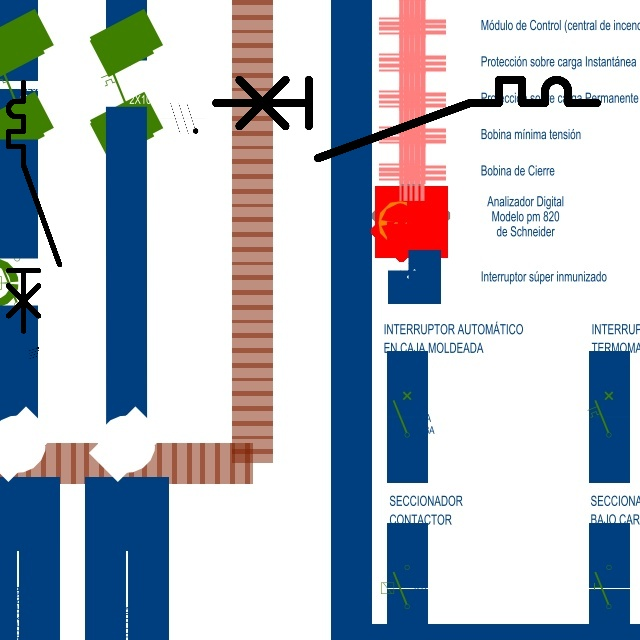interruptor_termomagnetico: (206, 70, 607, 168), (2, 76, 66, 338)
